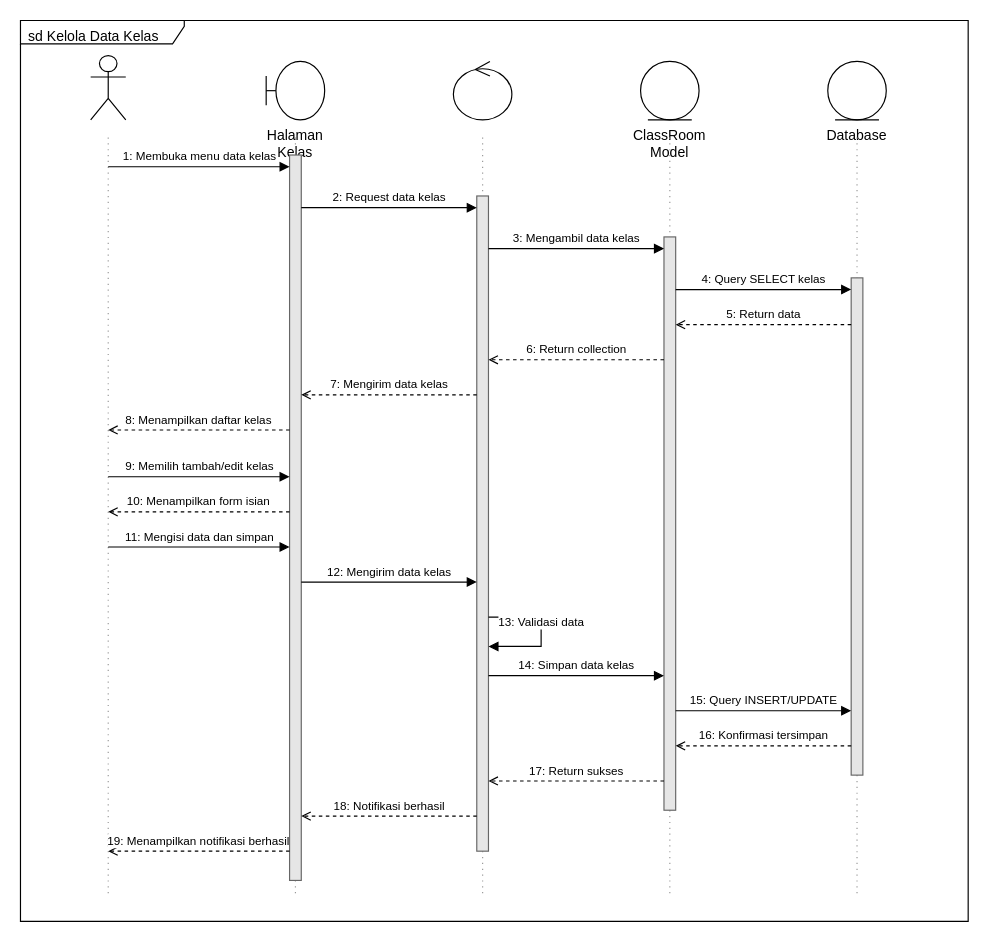
The diagram is 989 pixels wide and 942 high, and some of its shapes have lost their labels. The centre of each missing label's shape, as x and y in pixels:
"Admin" belongs at [108,87].
"ClassRoomController" belongs at [482,90].
